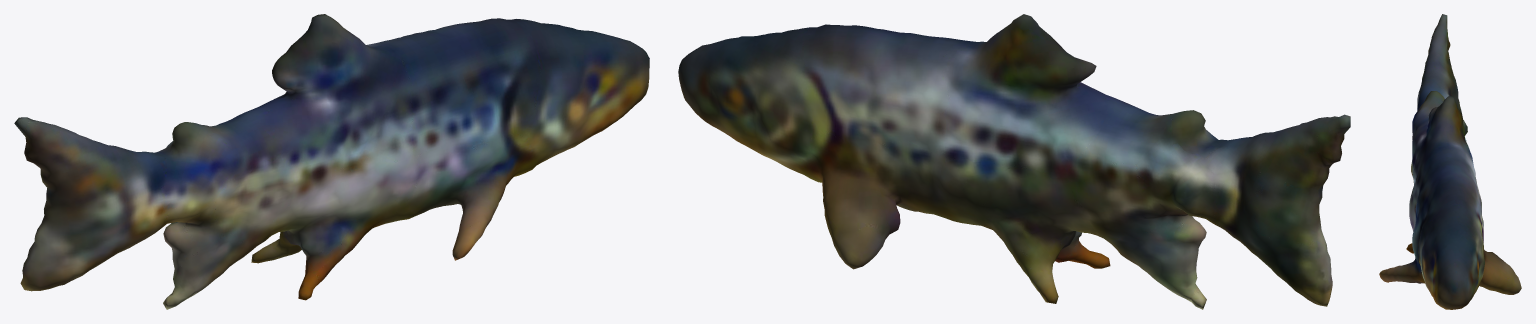
Rendered from fish.glb.
3 views of the same model, side by side, from view 1: azimuth 30°, elevation 25°; view 2: azimuth 150°, elevation 25°; view 3: azimuth 270°, elevation 25° (orthographic). The views are drawn at different scales.
Visible parts, largest first — view 1: Mesh1; view 2: Mesh1; view 3: Mesh1.
Part boxes in pixels (<box>): Mesh1: <box>14,14,649,309</box>; Mesh1: <box>678,14,1350,309</box>; Mesh1: <box>1379,14,1521,309</box>.
Bounding box in the file's own units: 1.2 × 0.4534 × 0.3445.
1 material, 1 textured.
